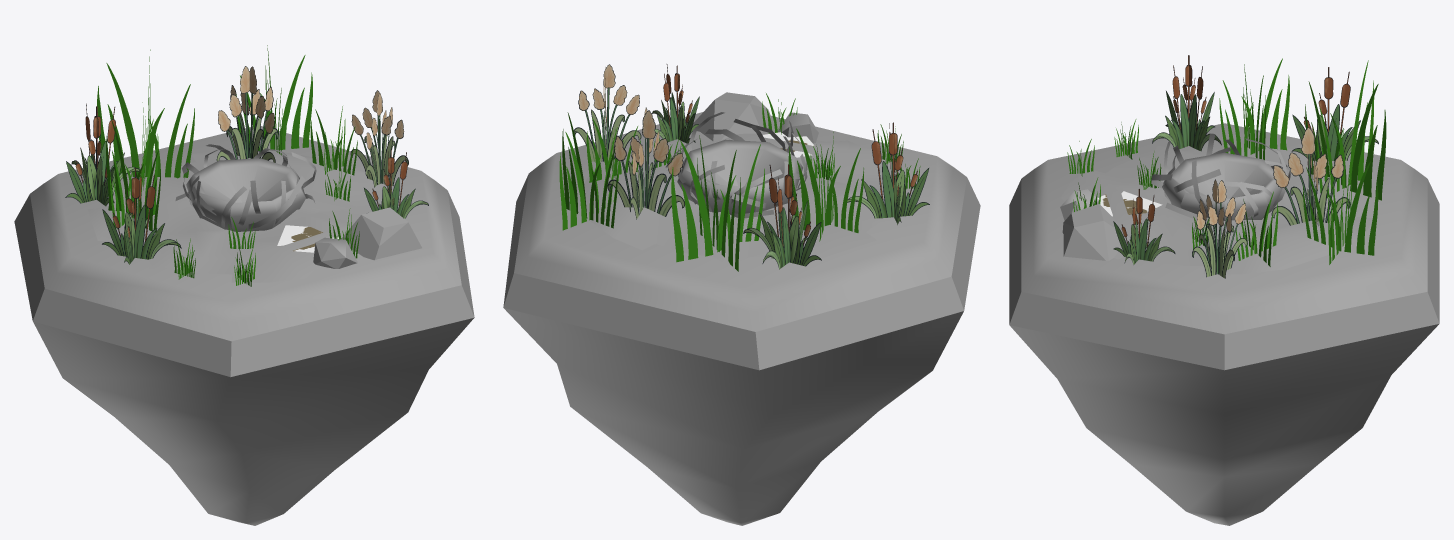
The model's file is Basic_Habitat.fbx.
3 views of the same model, side by side, from view 1: azimuth 30°, elevation 25°; view 2: azimuth 150°, elevation 25°; view 3: azimuth 270°, elevation 25° (orthographic). The views are drawn at different scales.
Parts seen in each view (by area): view 1: Basic_Habitat_mod; view 2: Basic_Habitat_mod; view 3: Basic_Habitat_mod.
Boxes of the visible parts, x1=… form: Basic_Habitat_mod: x1=14, y1=45, x2=474, y2=525; Basic_Habitat_mod: x1=503, y1=64, x2=980, y2=525; Basic_Habitat_mod: x1=1009, y1=55, x2=1439, y2=525.
Bounding box in the file's own units: 11.53 × 11.31 × 9.99.
